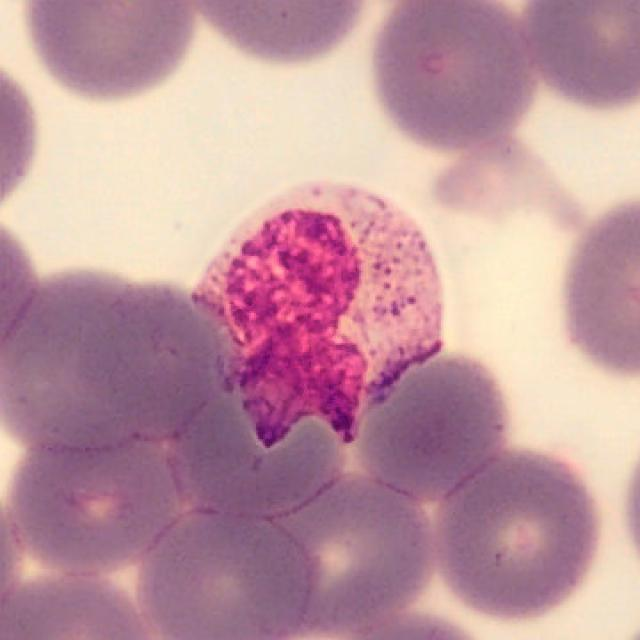Restos celulares: (190, 181, 444, 448)
